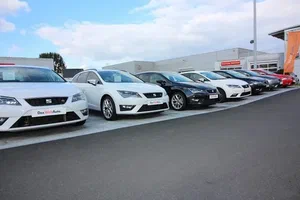Car: (0, 65, 89, 132), (71, 69, 169, 120), (135, 71, 219, 111), (180, 71, 251, 102), (213, 70, 269, 94), (232, 69, 283, 90), (250, 69, 292, 86), (275, 68, 299, 83)
